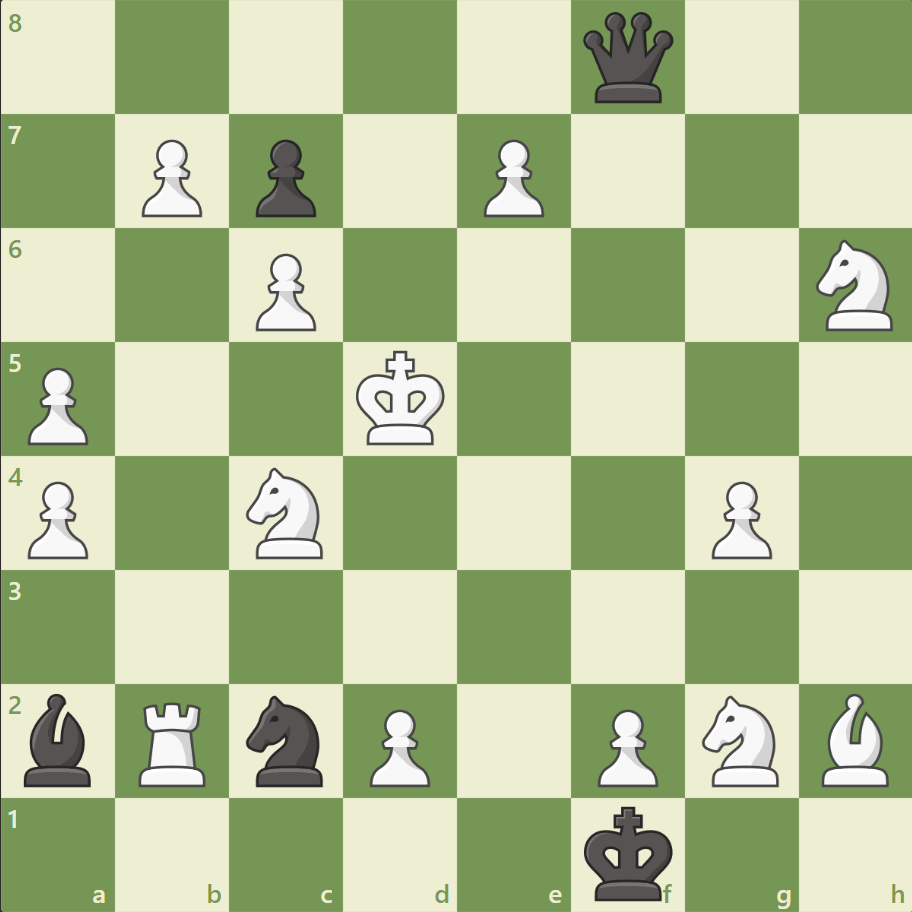B: (812, 687, 896, 790)
K: (351, 344, 451, 452)
N: (806, 234, 903, 337), (238, 461, 335, 564), (692, 688, 789, 791)
P: (133, 132, 208, 223), (474, 132, 549, 223), (247, 246, 322, 337), (20, 359, 95, 450), (20, 473, 95, 564), (701, 473, 776, 564), (361, 700, 435, 791), (588, 700, 662, 791)
R: (133, 693, 215, 790)
b: (17, 687, 101, 790)
k: (579, 798, 679, 906)
n: (238, 688, 335, 791)
p: (247, 132, 322, 223)
q: (578, 9, 677, 108)
